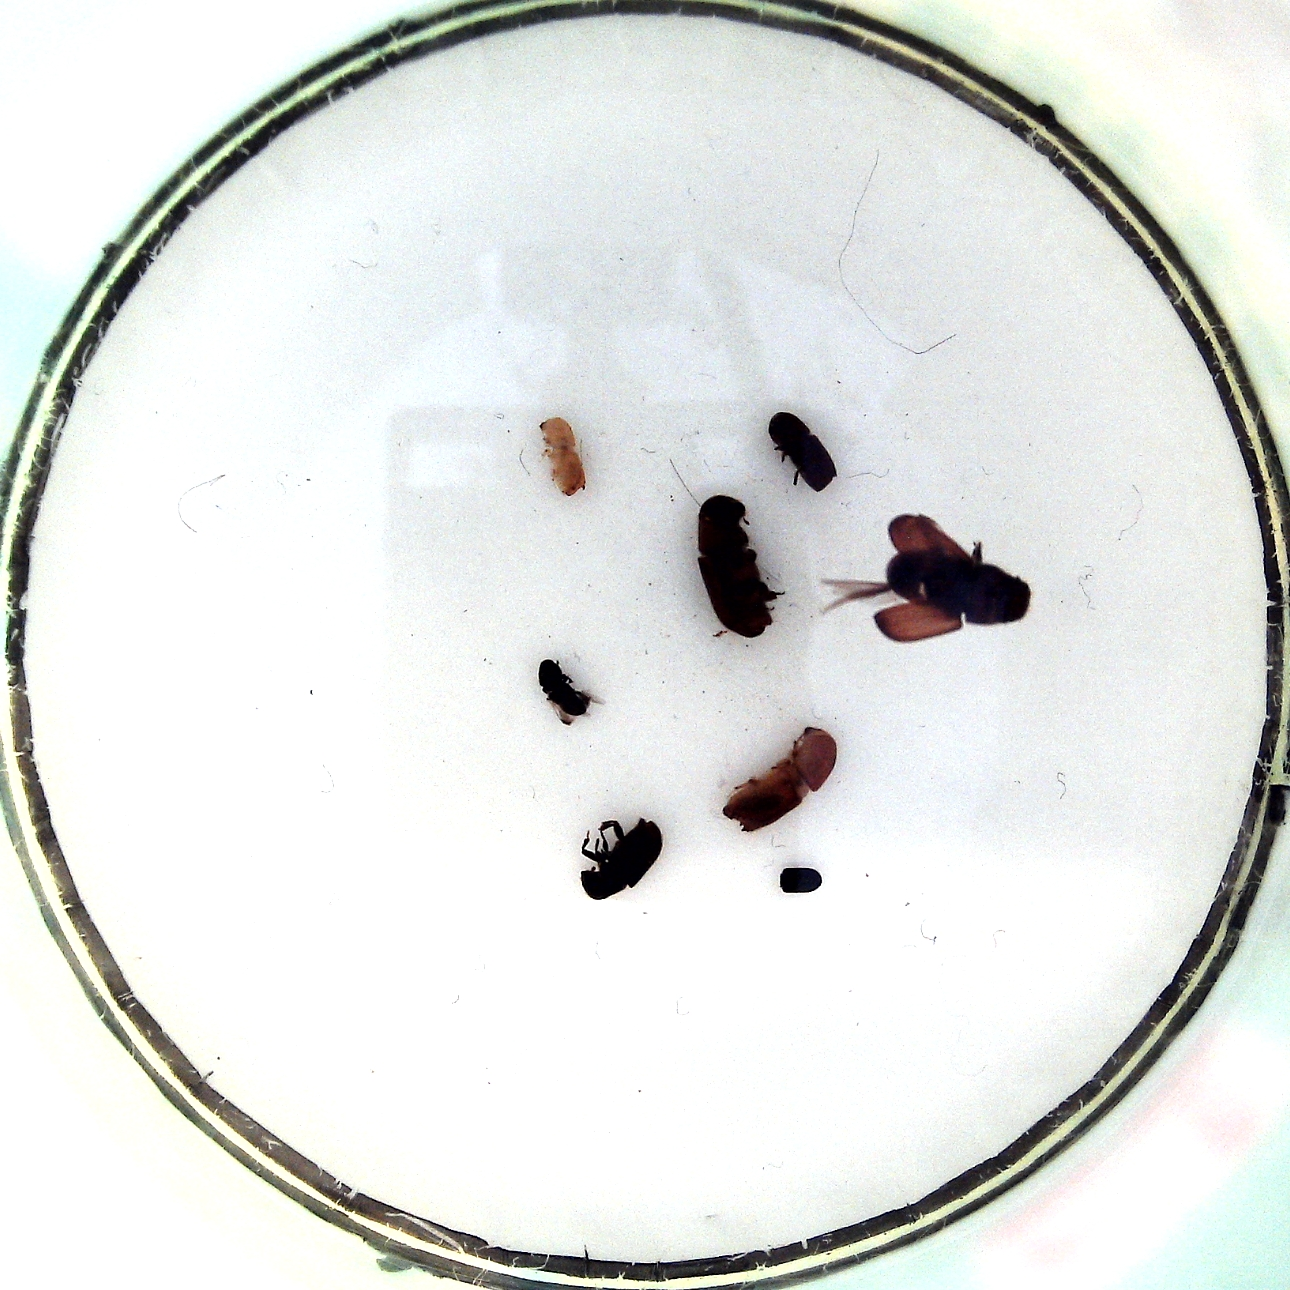Boerner: (711, 719, 842, 835)
Leconte: (817, 510, 1038, 649), (689, 489, 786, 638)
Linnaeus: (765, 404, 838, 494)
acuminatus: (535, 406, 589, 501)
armandi: (573, 809, 667, 907)
coleoptera: (535, 650, 610, 728), (775, 861, 827, 899)
